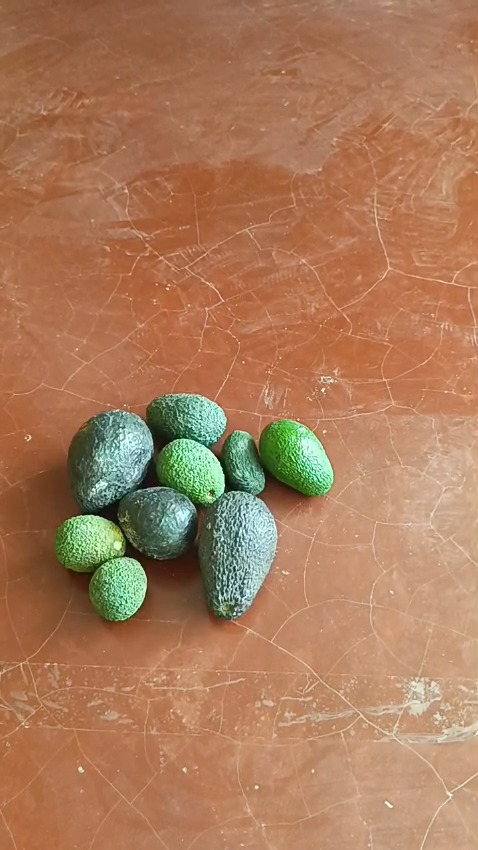Primera: (196, 489, 276, 617), (67, 409, 154, 512), (116, 486, 199, 560)
Segunda: (258, 419, 333, 495), (155, 438, 226, 506), (144, 392, 226, 448)
Tercera: (85, 554, 149, 622), (53, 514, 125, 573), (219, 429, 265, 496)
